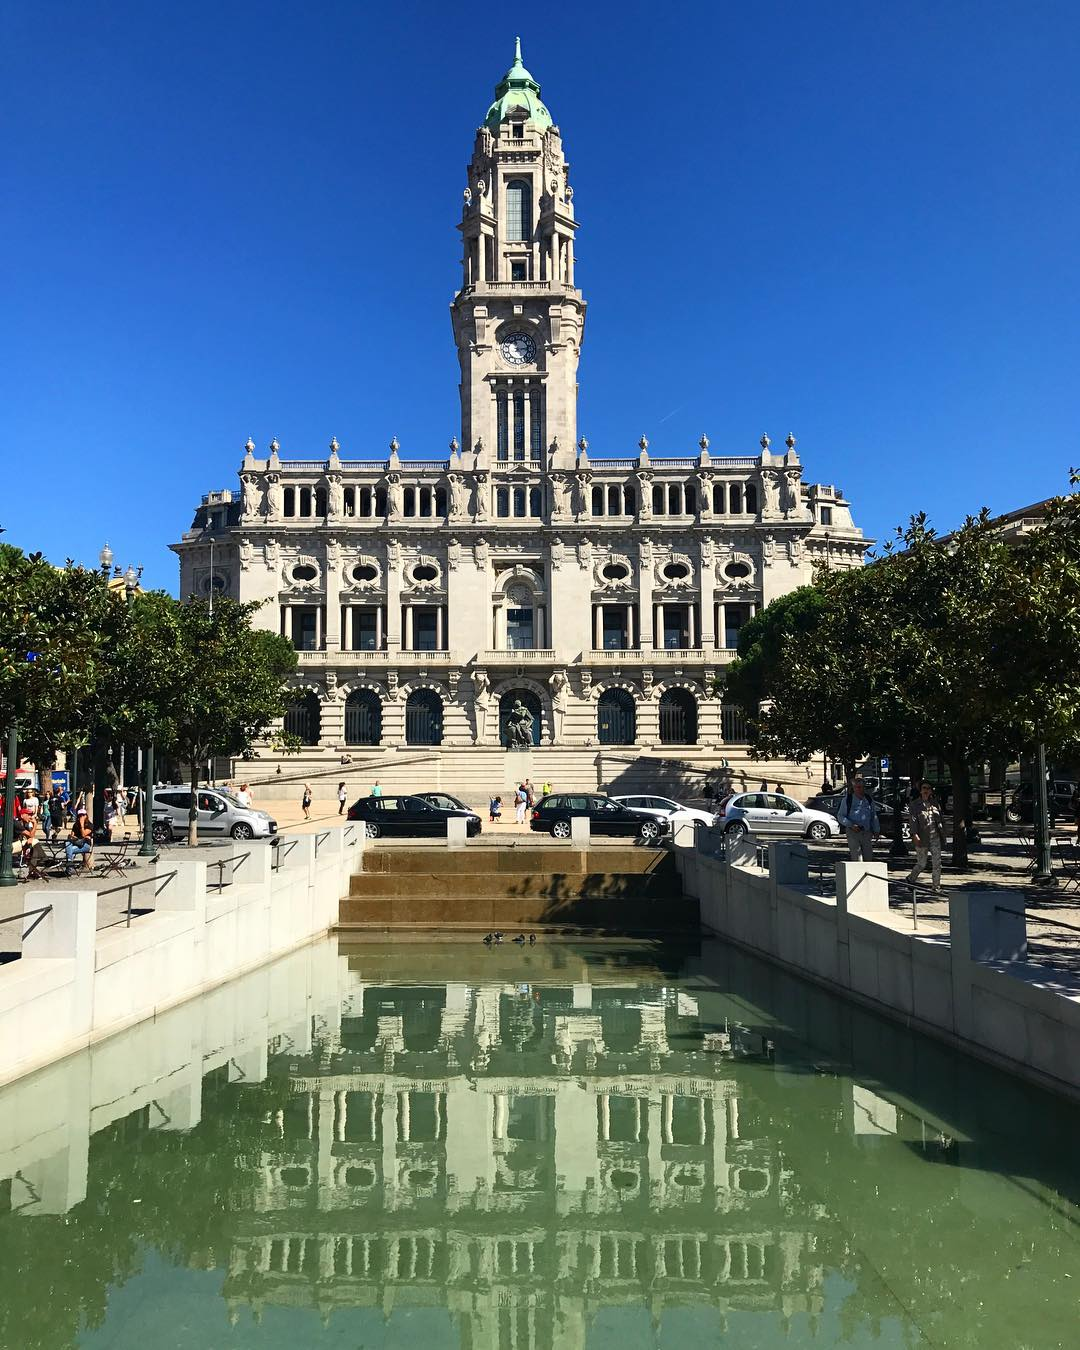camara: (164, 30, 879, 788)
